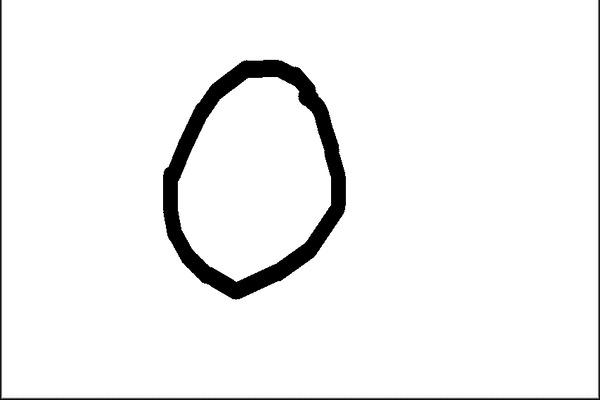O: (145, 39, 349, 304)
